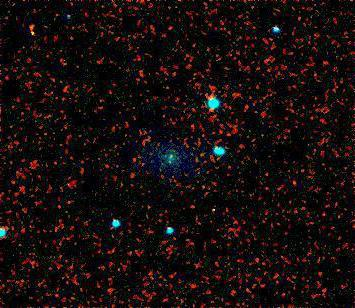star: (159, 147, 189, 177)
